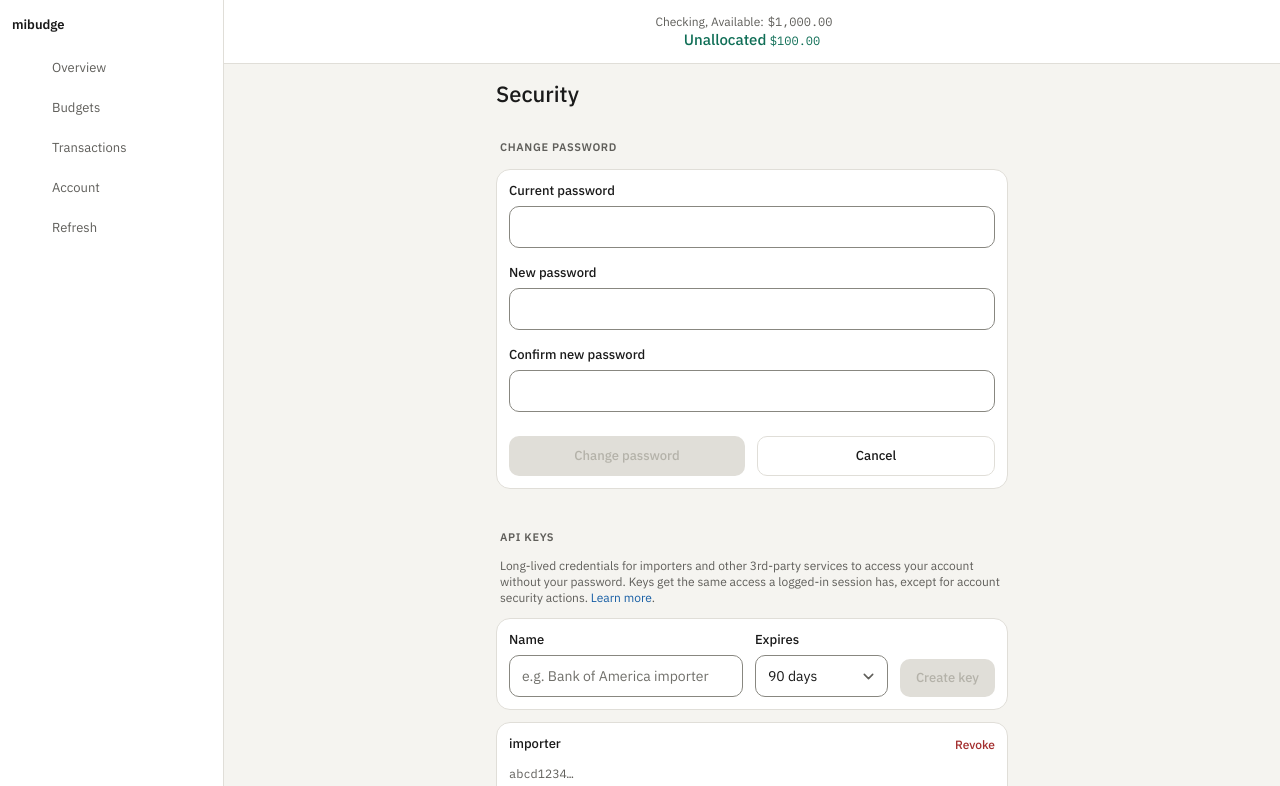
Test: AccountSettingsView › validates a custom expiry
This screenshot has width=1280, height=786.
Step 1. Type "importer" into the field with id "new-key-name" → (626, 676), box [509,655,743,697]
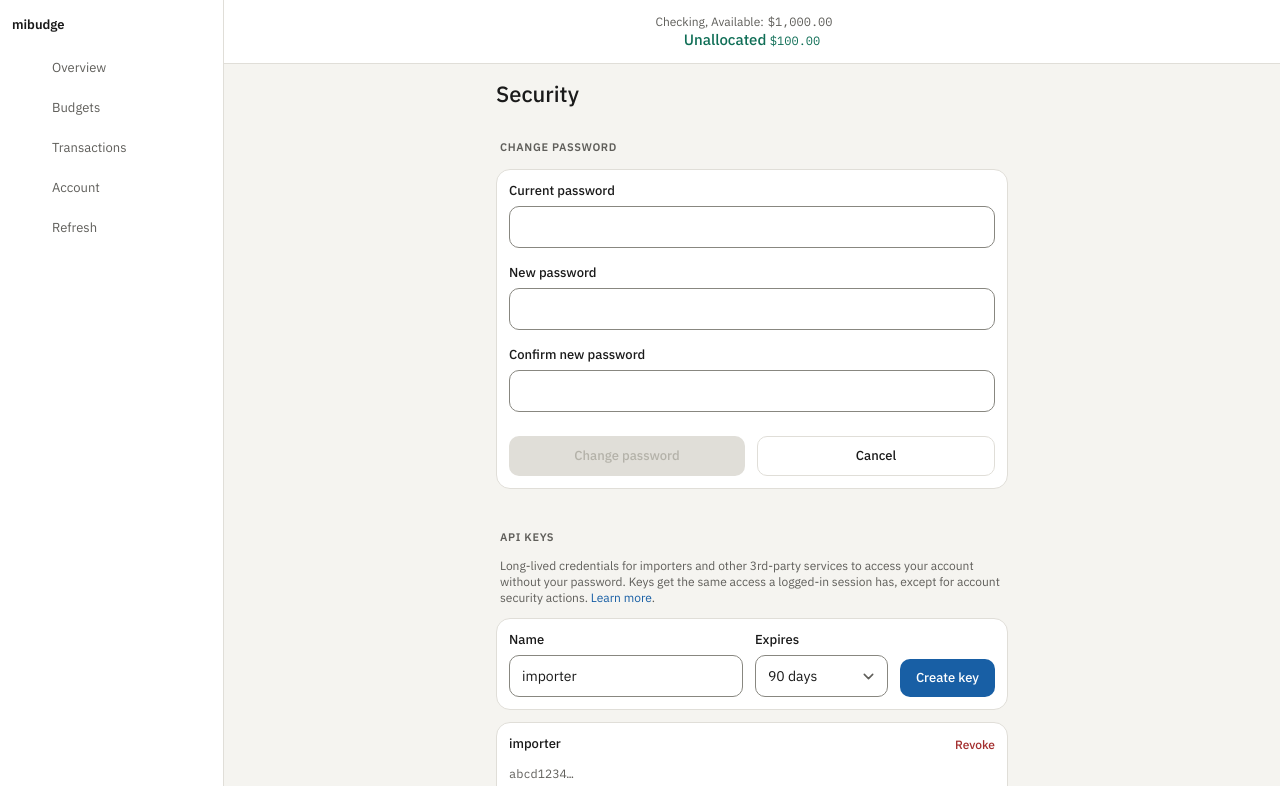
Step 2. Select "Custom…" in the dropdown with id "new-key-expiry" → (821, 676), box [755,655,888,697]
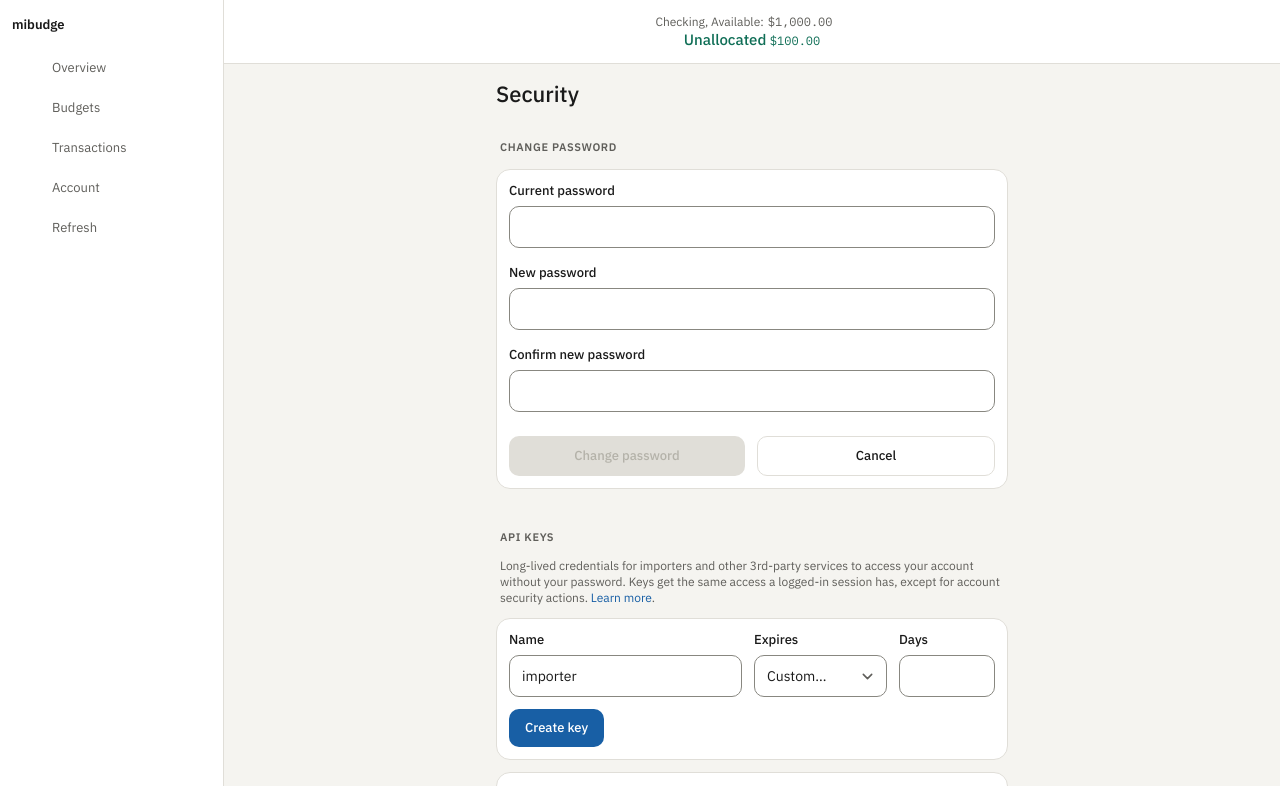
Step 3. Type "-3" into the number field with id "new-key-days" → (947, 676), box [899,655,995,697]
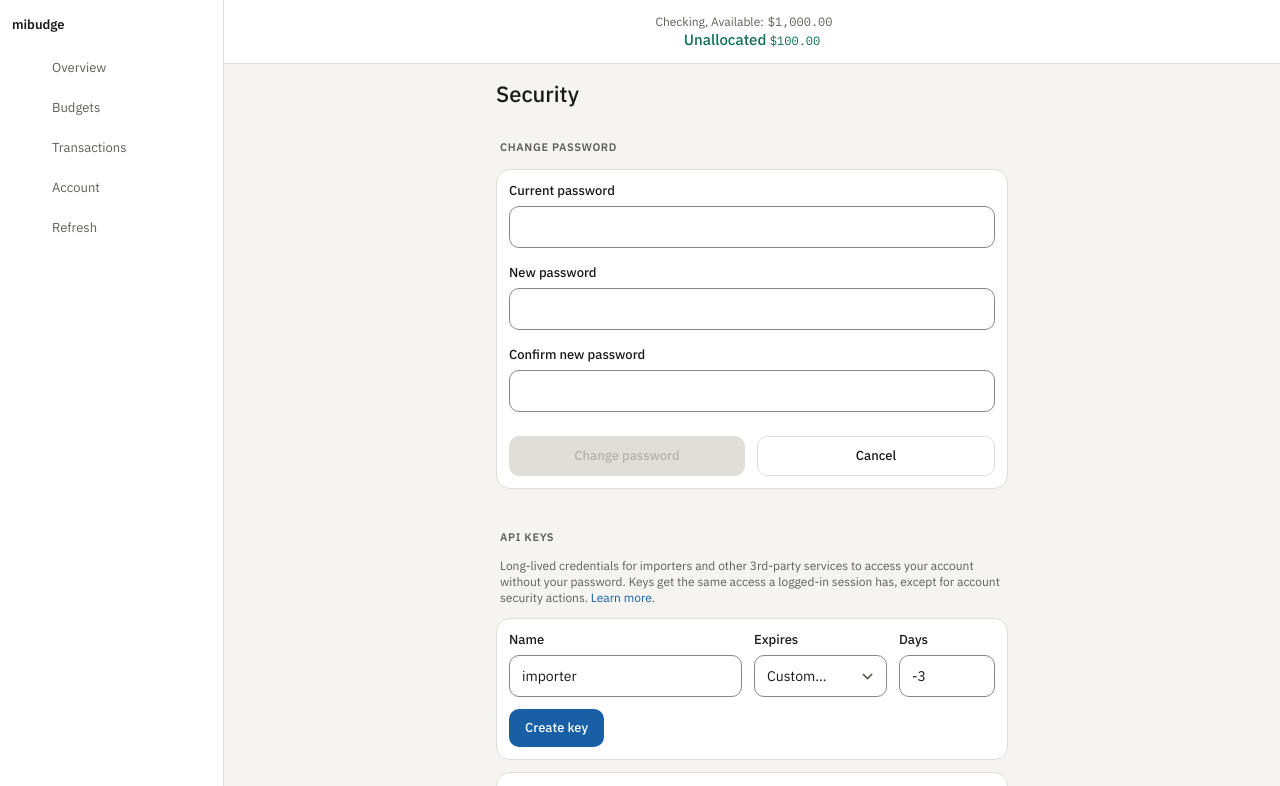
Step 4. Submit the form "Name Expires Days Create key", box [509,631,995,747]
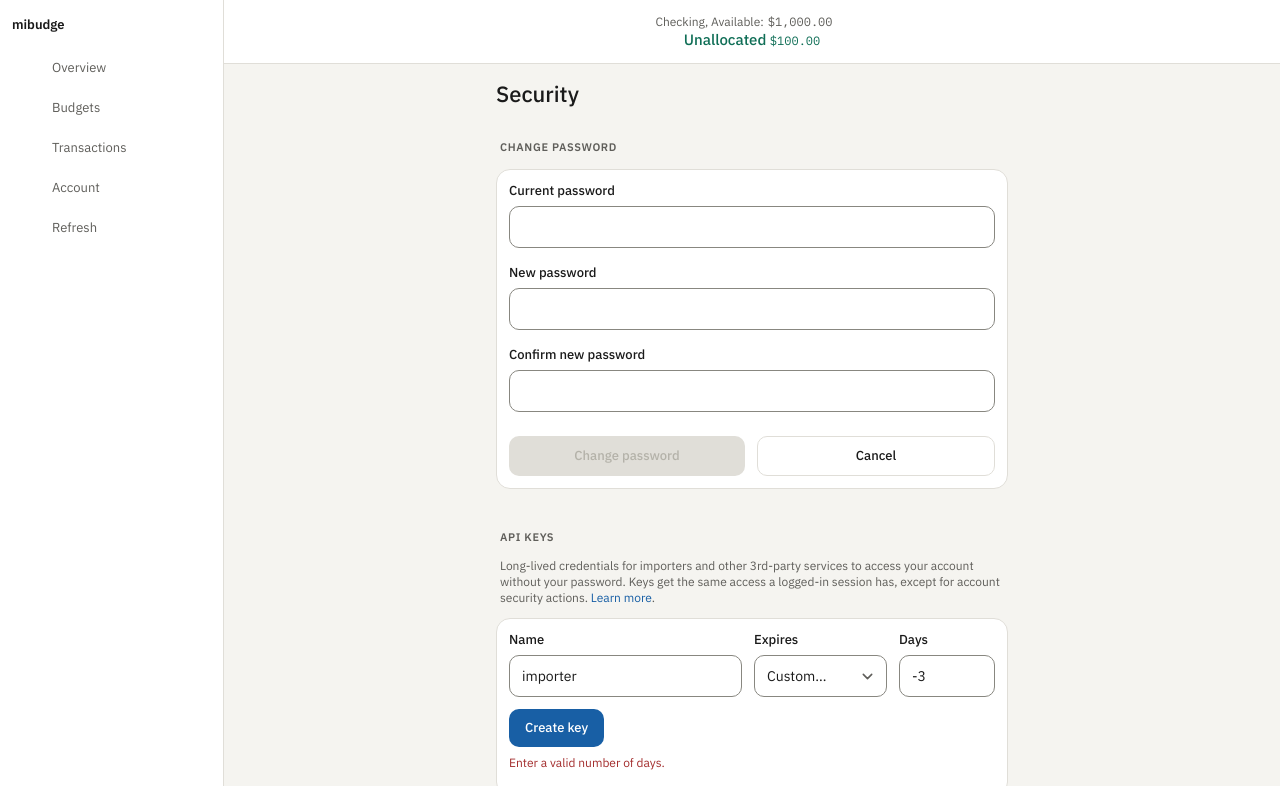
Expected: the text "Enter a valid number of days." is shown, [509,755,665,770]
